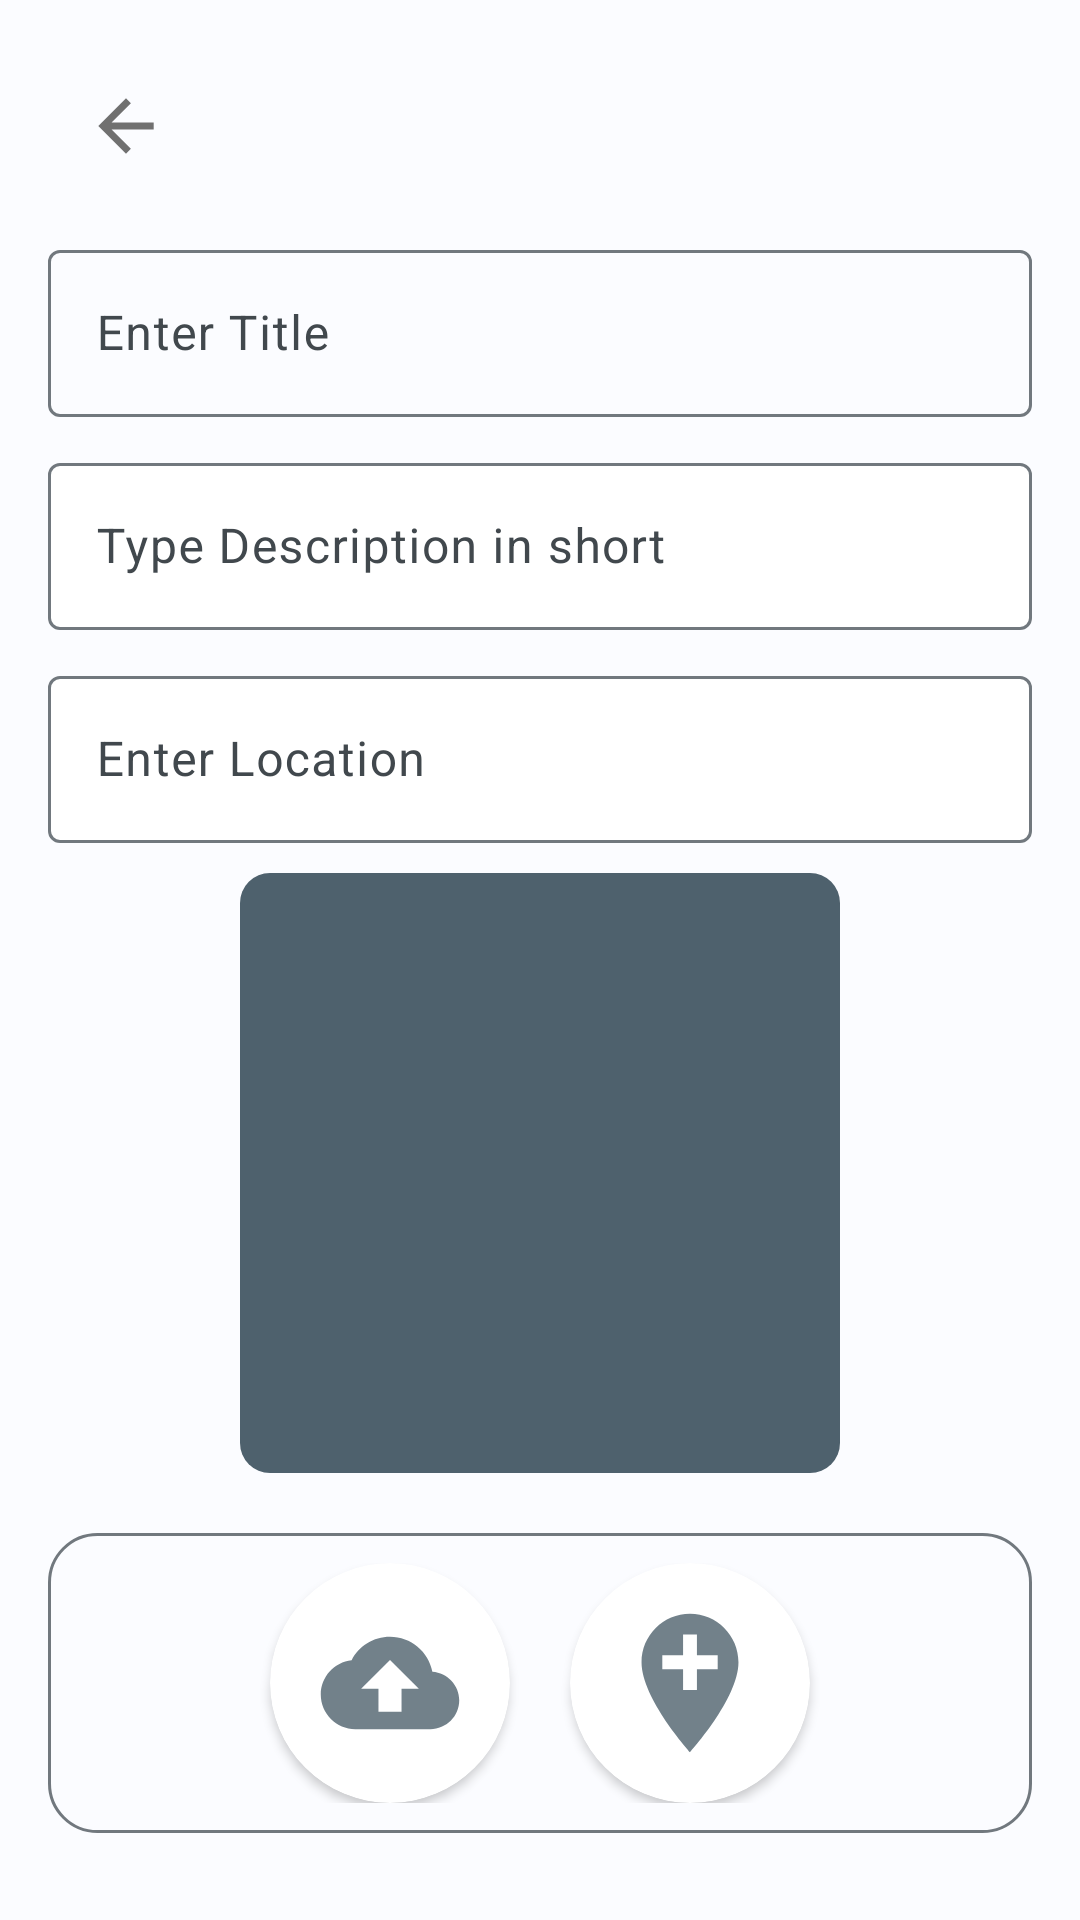

Icon bounding boxes for this 1080px x 1920px phone screenshot, format bbox=[x1, y1, x2, y2]:
Back Button: bbox=[98, 98, 154, 154]
Button Get Current Location: bbox=[641, 1613, 739, 1752]
Button Image Upload: bbox=[320, 1636, 460, 1730]
